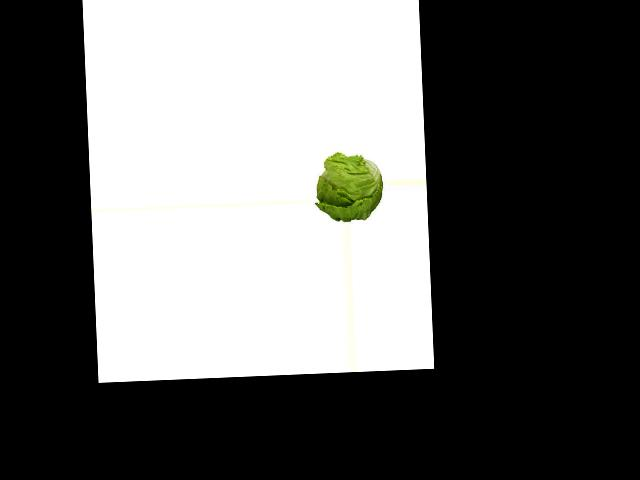lettuce: (314, 153, 386, 222)
